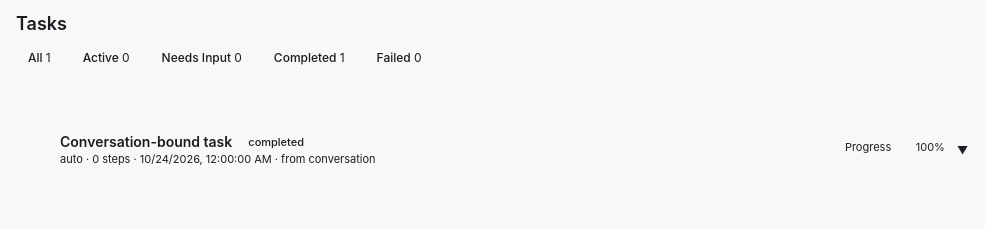
Test: connects conversation navigation only when this view provides a consumer: false
Click the text "Conversation-bound task".
click(146, 142)  # box [60,133,232,150]
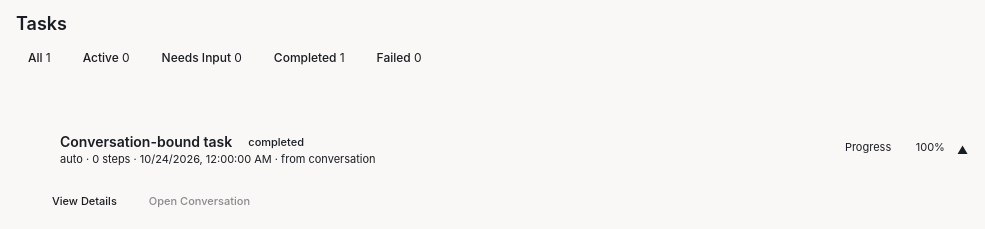
Result: the button "Open Conversation" is disabled at [137,190,262,212]
